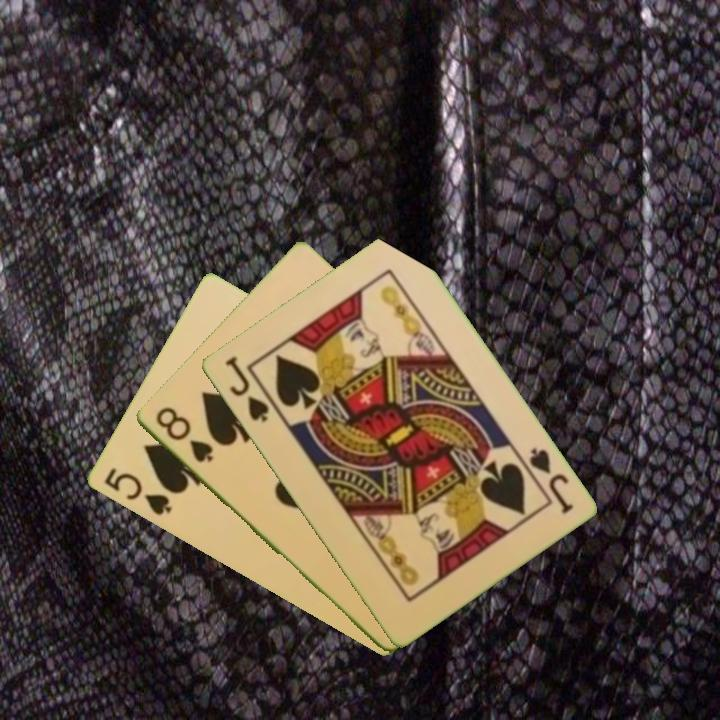5s: (100, 464, 175, 519)
8s: (151, 403, 216, 466)
Js: (516, 444, 576, 517), (221, 352, 272, 425)
